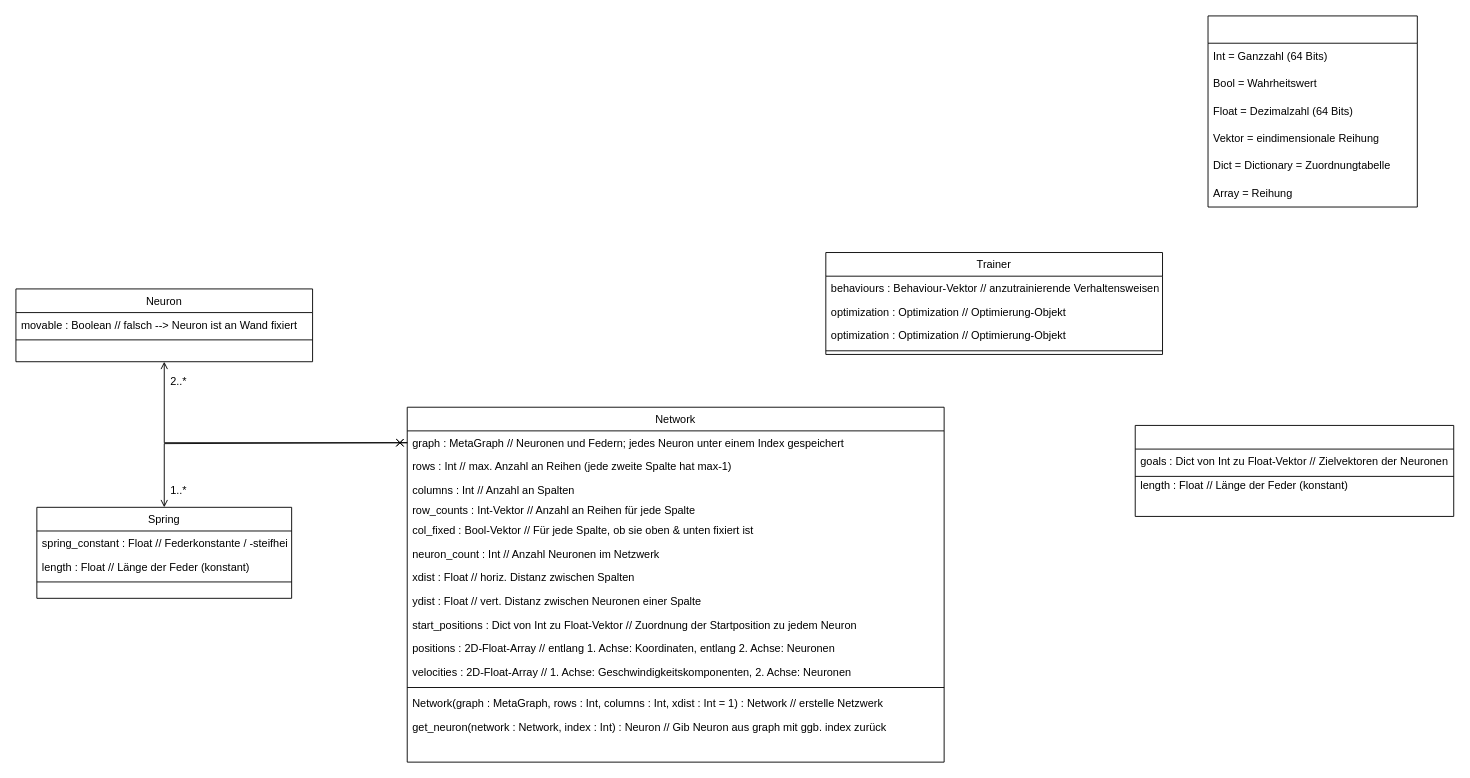
This 1470x778 diagram has some shape labels left out. Each missing label, with the box of its shape:
Behaviour: (1134, 425, 1454, 516)
Datentypen: (1207, 15, 1417, 207)
